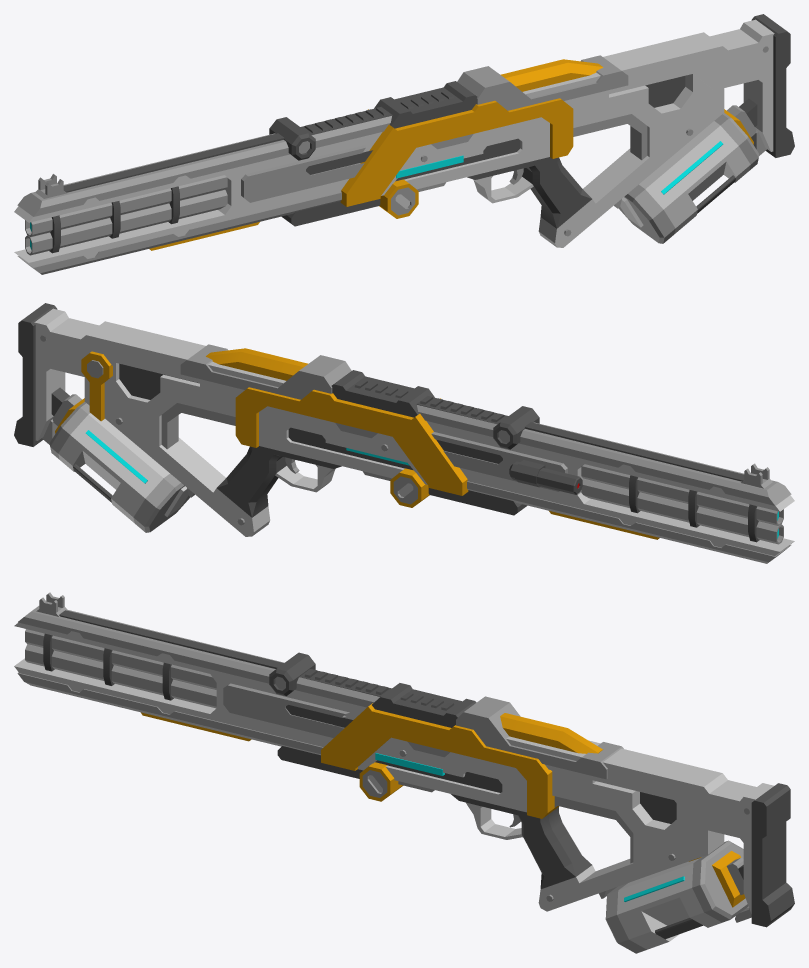
Rendered from SM_LMG01.fbx.
The picture shows the model from 3 angles, top to bottom: view 1: azimuth 30°, elevation 25°; view 2: azimuth 150°, elevation 25°; view 3: azimuth 330°, elevation 25°; orthographic projection.
Parts seen in each view (by area): view 1: SM_LMG01, SM_LMG01_Battery; view 2: SM_LMG01, SM_LMG01_Battery, SM_LMG01_Laser; view 3: SM_LMG01, SM_LMG01_Battery.
Boxes of the visible parts, <box> form: SM_LMG01: <box>14,14,794,274</box>; SM_LMG01_Battery: <box>618,109,758,243</box>; SM_LMG01: <box>14,303,794,563</box>; SM_LMG01_Battery: <box>50,398,190,532</box>; SM_LMG01_Laser: <box>509,460,582,494</box>; SM_LMG01: <box>14,592,794,927</box>; SM_LMG01_Battery: <box>605,840,748,953</box>.
Bounding box in the file's own units: 114 × 28.87 × 12.14.
